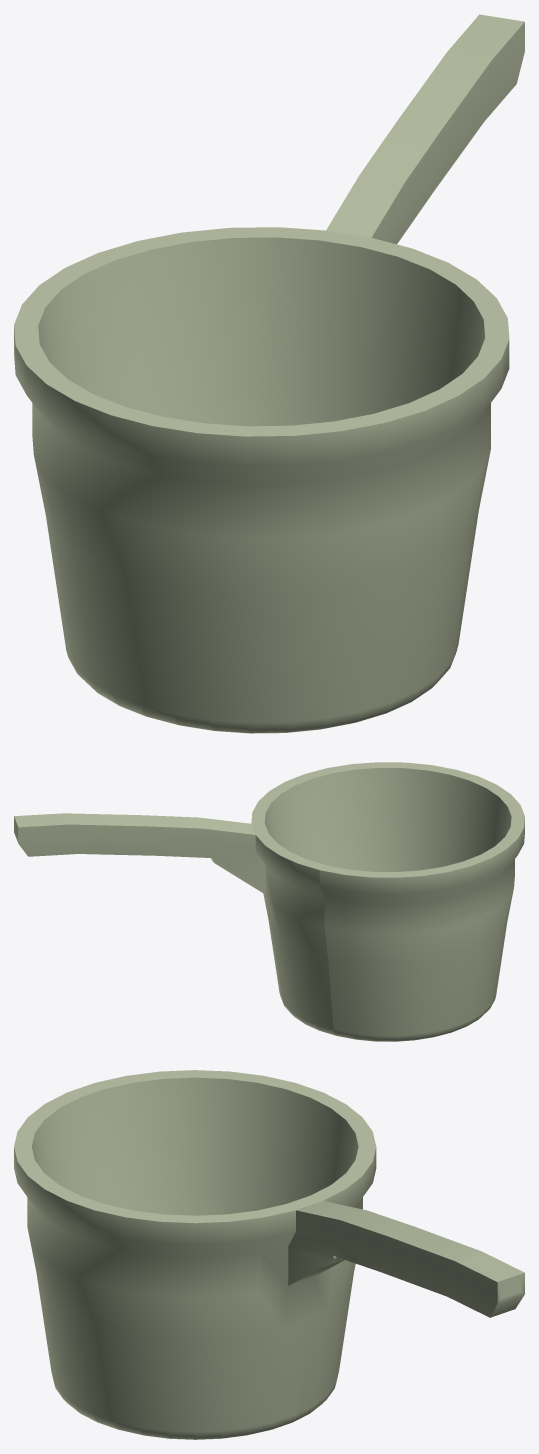
The picture shows the model from 3 angles, top to bottom: view 1: azimuth 30°, elevation 25°; view 2: azimuth 150°, elevation 25°; view 3: azimuth 270°, elevation 25°; orthographic projection. The views are drawn at different scales.
Parts seen in each view (by area): view 1: split_parent_0; view 2: split_parent_0; view 3: split_parent_0.
Boxes of the visible parts, left/top/right/bottom form: split_parent_0: left=14, top=14, right=524, bottom=733; split_parent_0: left=14, top=762, right=524, bottom=1041; split_parent_0: left=14, top=1070, right=524, bottom=1439.
Size of the model in its own units: 1 by 0.5172 by 0.8847.
